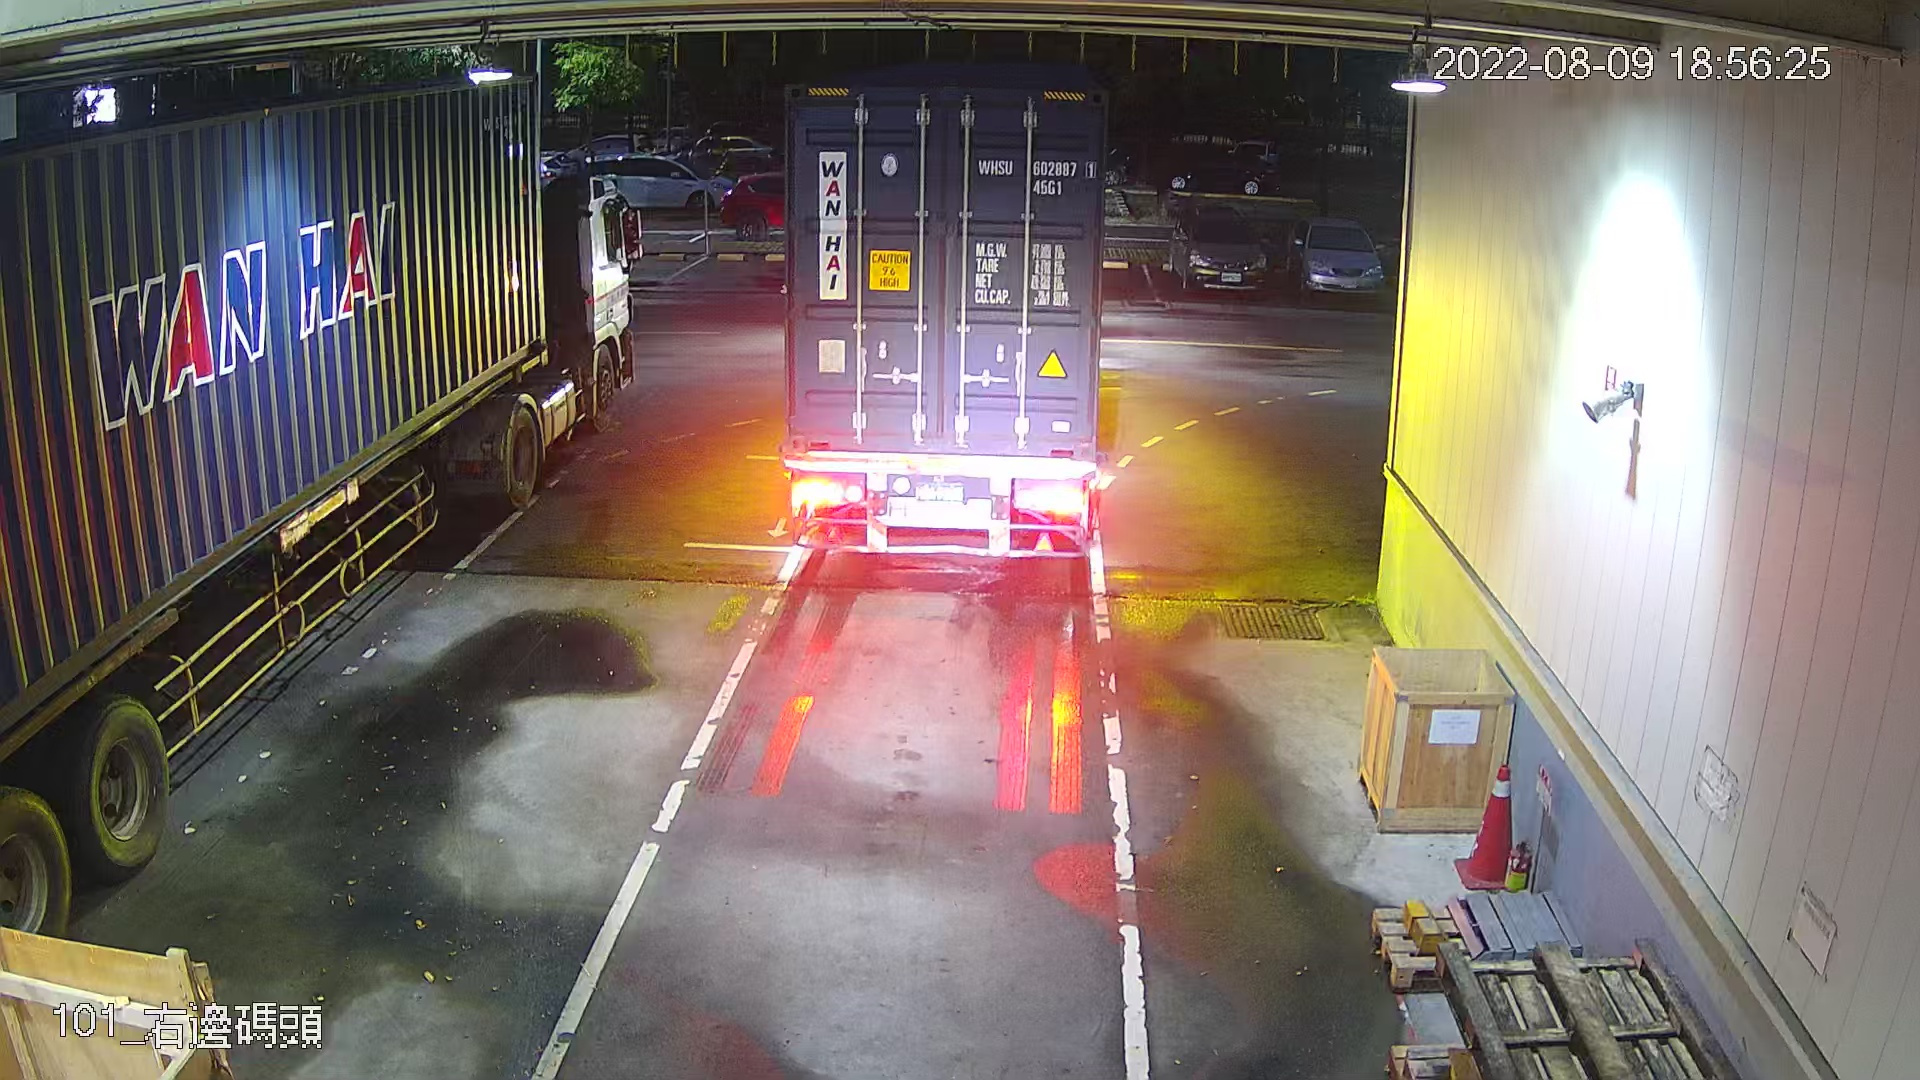container: (973, 152, 1100, 200)
